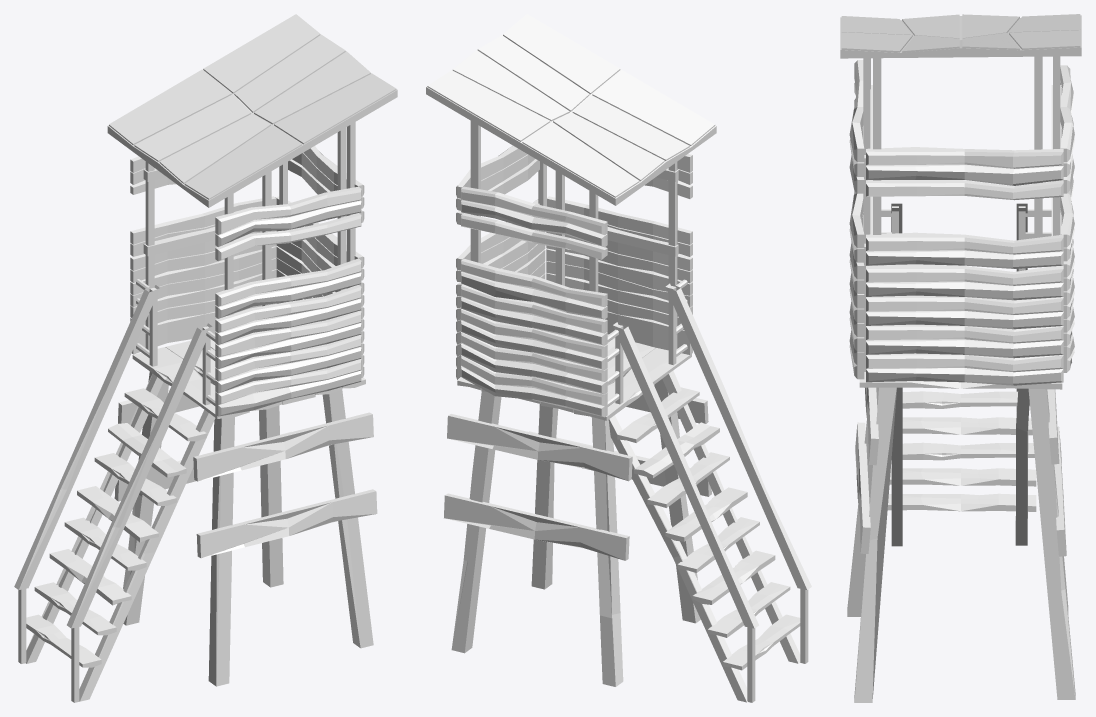
The model's file is Mirador.fbx.
The picture shows the model from 3 angles, left to right: view 1: azimuth 30°, elevation 25°; view 2: azimuth 150°, elevation 25°; view 3: azimuth 270°, elevation 25°; orthographic projection. The views are drawn at different scales.
Parts seen in each view (by area): view 1: Mirador; view 2: Mirador; view 3: Mirador.
Boxes of the visible parts, left/top/right/bottom form: Mirador: left=14, top=14, right=397, bottom=702; Mirador: left=426, top=14, right=811, bottom=702; Mirador: left=840, top=14, right=1081, bottom=702.
Size of the model in its own units: 1447 by 2527 by 828.
